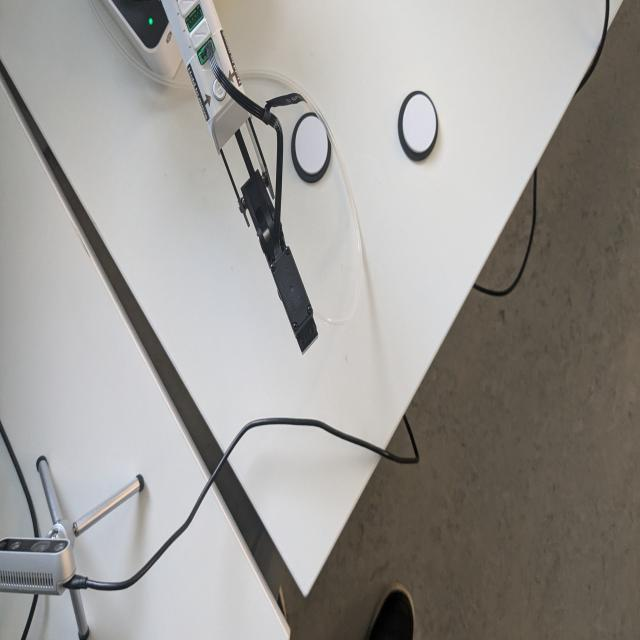Robot-end-effector-HF8z: (268, 243, 320, 357)
